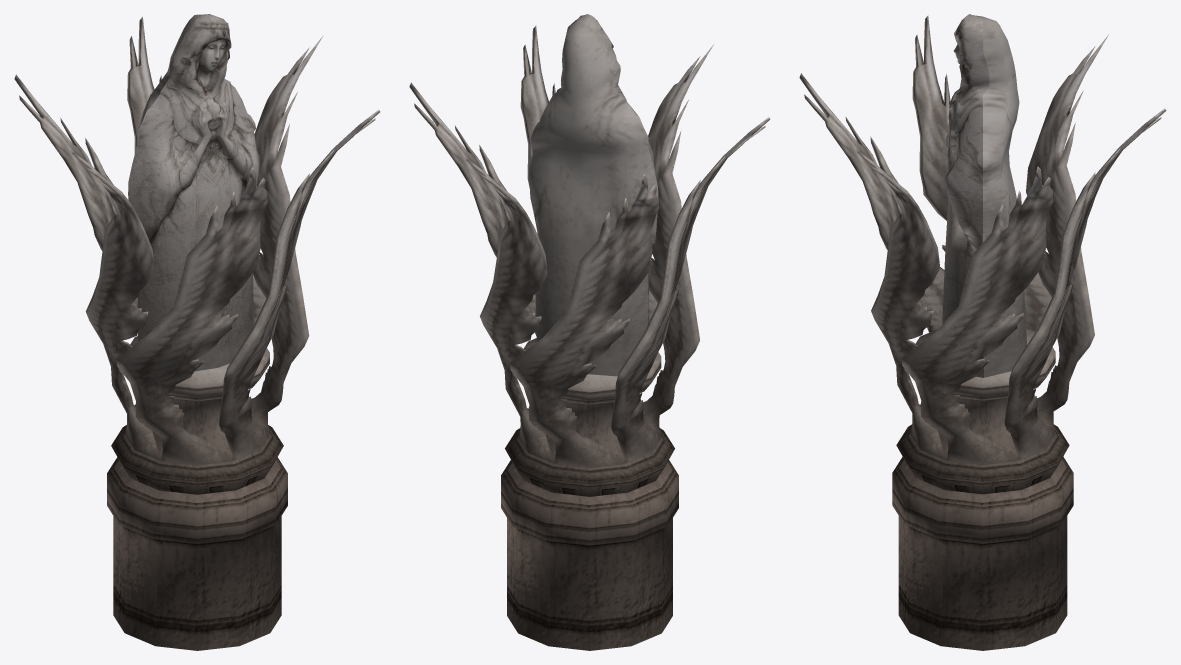
Rendered from statue_2.glb.
3 views of the same model, side by side, from view 1: azimuth 30°, elevation 25°; view 2: azimuth 150°, elevation 25°; view 3: azimuth 270°, elevation 25° (orthographic).
Parts seen in each view (by area): view 1: Object_3, Object_2, Object_7, Object_4, Object_5; view 2: Object_3, Object_2, Object_5, Object_4, Object_7; view 3: Object_3, Object_2, Object_7, Object_4, Object_5.
Part boxes in pixels (box(x1,y1,x2,y2)): Object_3: box(14, 17, 380, 465); Object_2: box(107, 457, 287, 650); Object_7: box(128, 14, 259, 371); Object_4: box(111, 336, 283, 494); Object_5: box(138, 14, 208, 129); Object_3: box(409, 25, 770, 467); Object_2: box(501, 460, 678, 650); Object_5: box(529, 23, 658, 376); Object_4: box(505, 338, 674, 496); Object_7: box(568, 14, 657, 324); Object_3: box(799, 15, 1166, 464); Object_2: box(892, 456, 1073, 650); Object_7: box(942, 14, 989, 377); Object_4: box(896, 328, 1069, 494); Object_5: box(983, 16, 1026, 377).
Size of the model in its own units: 0.7731 by 1.44 by 0.7954.
Materials: 6 (6 with a texture image).
